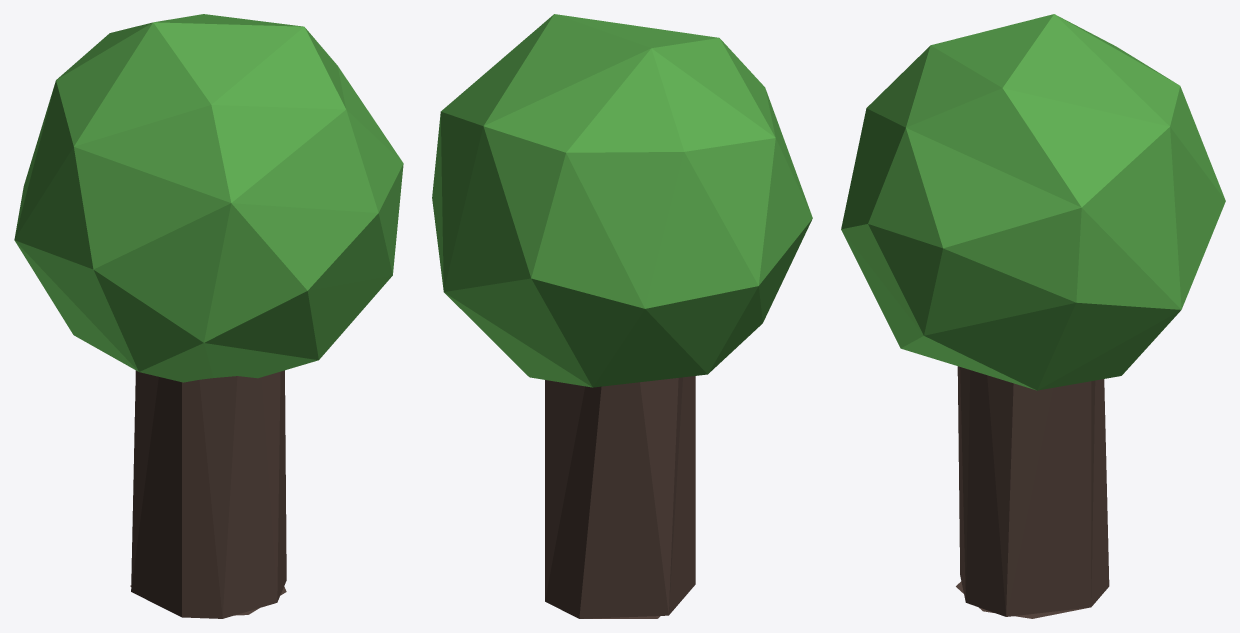
The model's file is busch.fbx.
The picture shows the model from 3 angles, left to right: view 1: azimuth 30°, elevation 25°; view 2: azimuth 150°, elevation 25°; view 3: azimuth 270°, elevation 25°; orthographic projection. The views are drawn at different scales.
Parts seen in each view (by area): view 1: Kugel, Zylinder; view 2: Kugel, Zylinder; view 3: Kugel, Zylinder.
Part boxes in pixels (x1,y1,x2,y2): Kugel: (14, 14, 403, 382); Zylinder: (130, 370, 286, 618); Kugel: (432, 14, 812, 387); Zylinder: (545, 376, 695, 618); Kugel: (841, 14, 1225, 390); Zylinder: (956, 366, 1109, 618).
Bounding box in the file's own units: 64.73 × 105 × 66.41.
2 materials, 2 textured.
